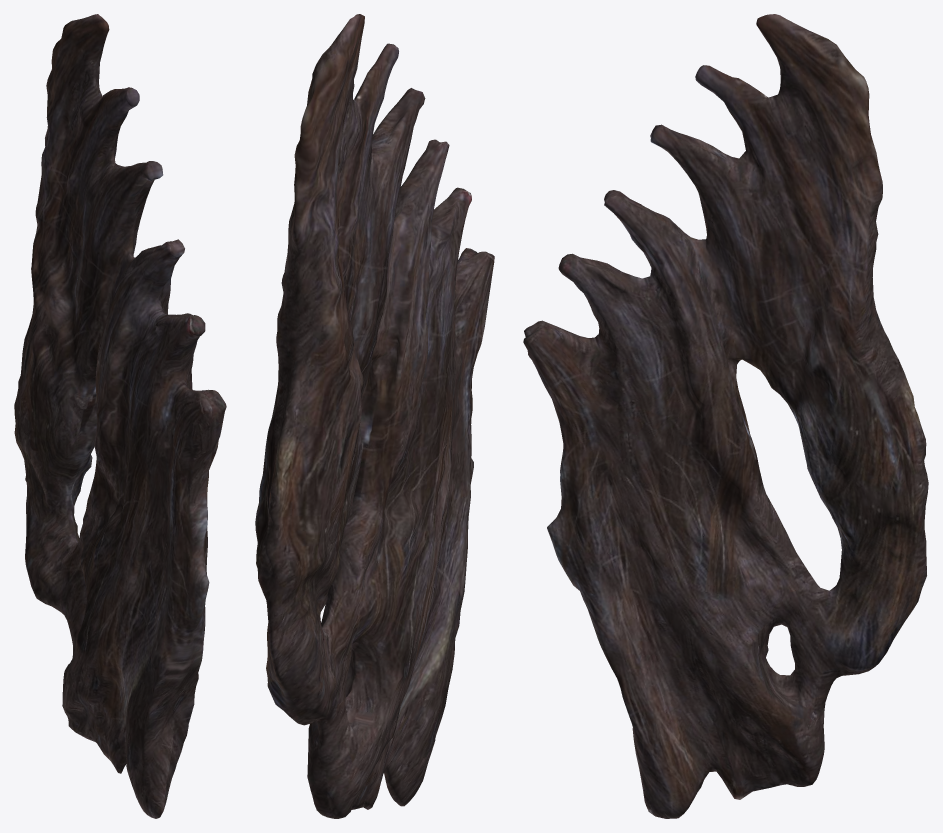
Rendered from keet_hat_fringe-14k-1024-low.glb.
3 views of the same model, side by side, from view 1: azimuth 30°, elevation 25°; view 2: azimuth 150°, elevation 25°; view 3: azimuth 270°, elevation 25° (orthographic). The views are drawn at different scales.
Bounding box in the file's own units: 0.0198 × 0.1857 × 0.0849.
1 material, 1 textured.
